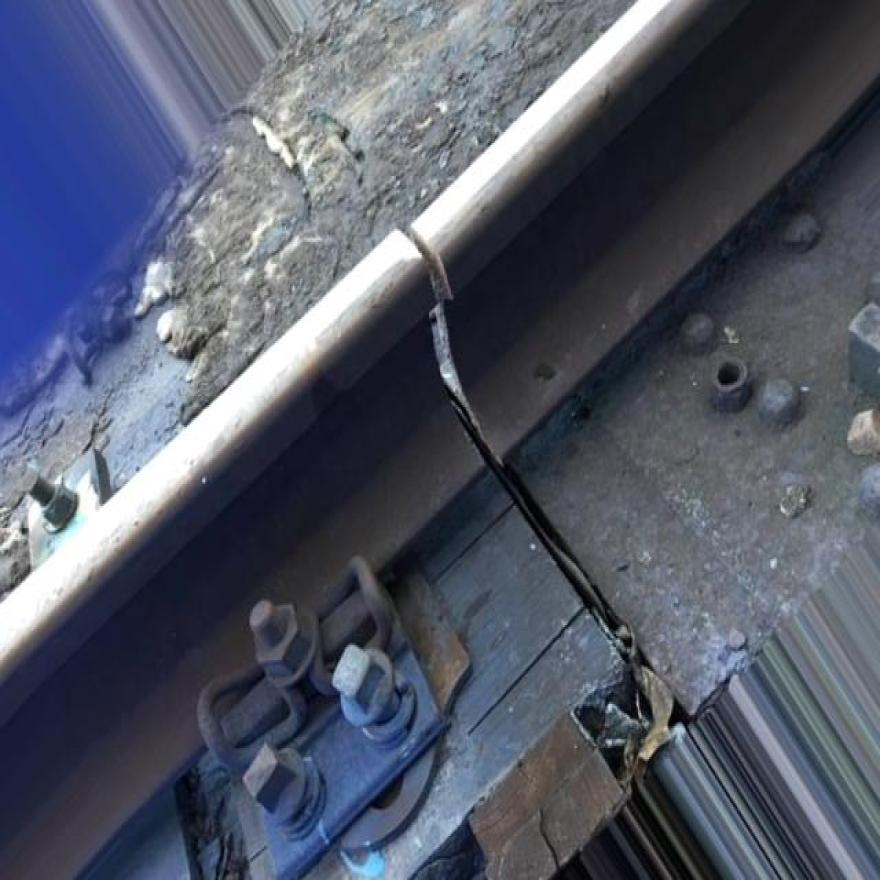railway-gap: (311, 189, 578, 527)
